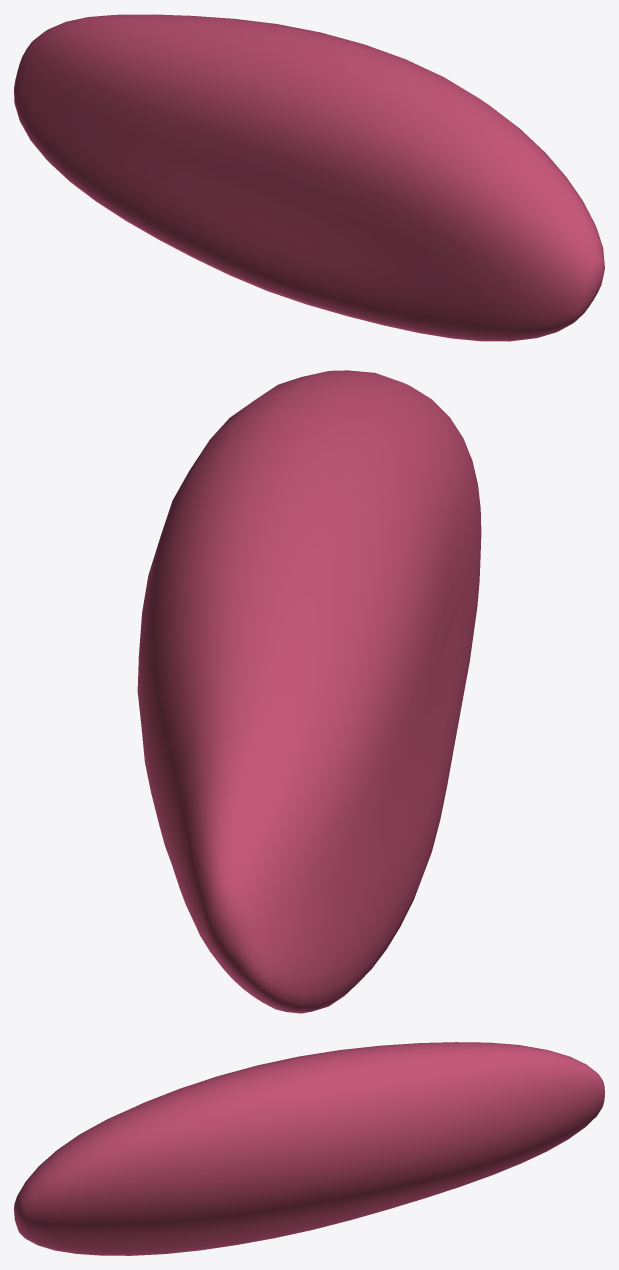
3 renders of one model, top to bottom at view 1: azimuth 30°, elevation 25°; view 2: azimuth 150°, elevation 25°; view 3: azimuth 270°, elevation 25°, orthographic. The views are drawn at different scales.
Visible parts, largest first — view 1: 右侧大圆肌腱下囊; view 2: 右侧大圆肌腱下囊; view 3: 右侧大圆肌腱下囊.
Part boxes in pixels (x1,y1,x2,y2): 右侧大圆肌腱下囊: [14, 14, 604, 341]; 右侧大圆肌腱下囊: [137, 370, 481, 1013]; 右侧大圆肌腱下囊: [14, 1042, 604, 1255].
Bounding box in the file's own units: 0.018 × 0.014 × 0.0385.
